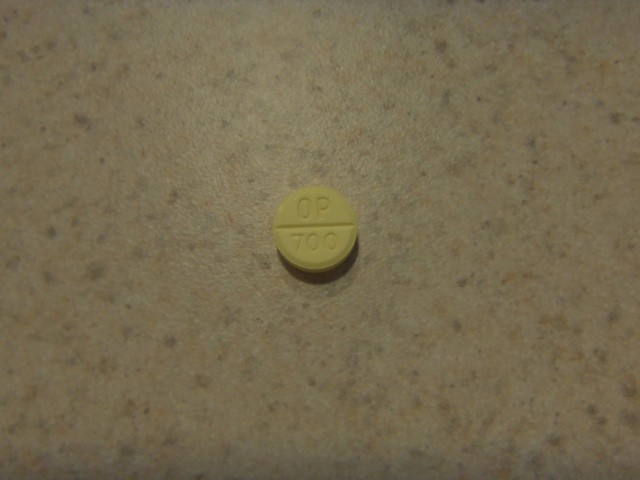0: (305, 232, 321, 256), (324, 231, 341, 252)
7: (289, 231, 303, 257)
O: (313, 193, 334, 222), (295, 195, 313, 220)
|: (270, 217, 363, 232)
